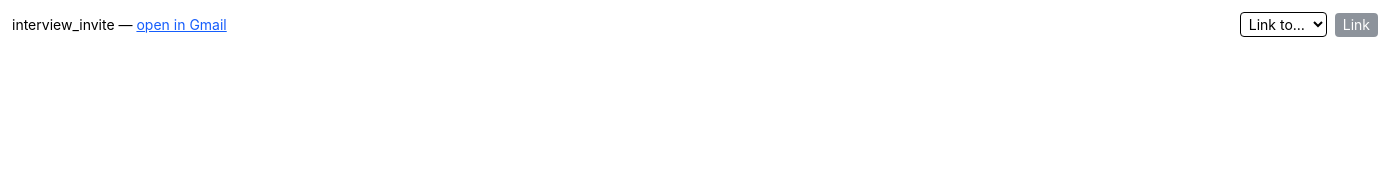
Test case: UnmatchedEvents › disables Link until an application is picked, then calls the API and onLinked
This screenshot has width=1390, height=172.
Later steps or results of the test are not shown.
expect the button "Link" is disabled: met, box [1335,12,1378,36]
Select "Acme" in the dropdown named "link event 10 to application": (1283, 24) [1240,12,1327,37]
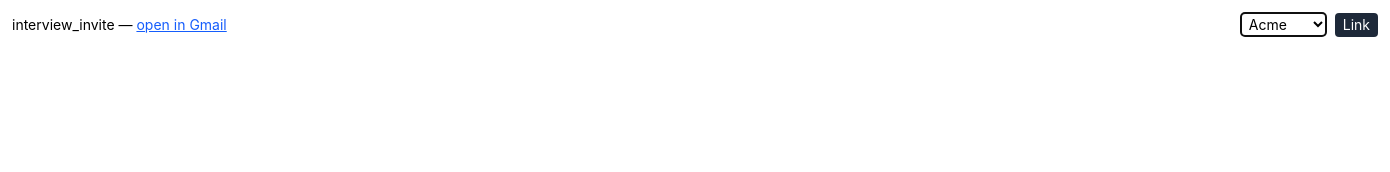
expect the button "Link" is enabled: met, box [1335,12,1378,36]
